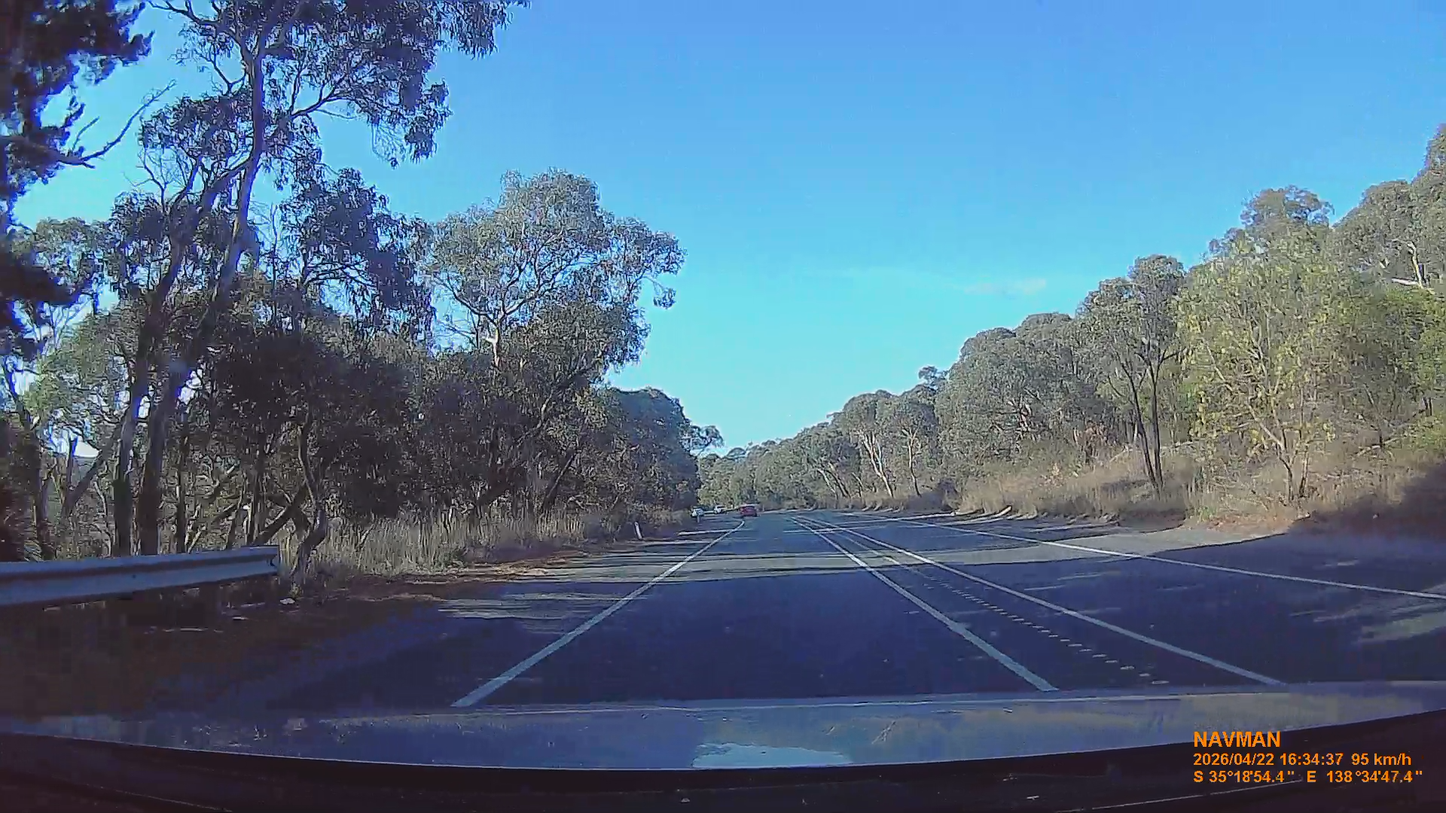road barriers: (1, 547, 280, 623)
